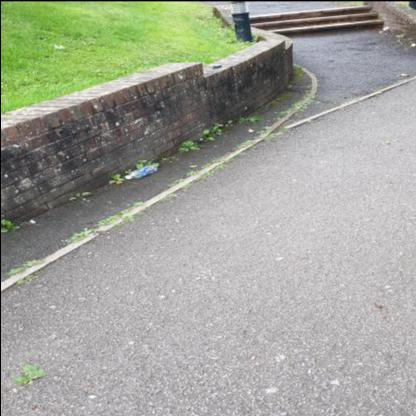Bottle: (125, 174, 131, 178)
Bottle cap: (124, 163, 158, 178)
Carton: (208, 62, 221, 66)
